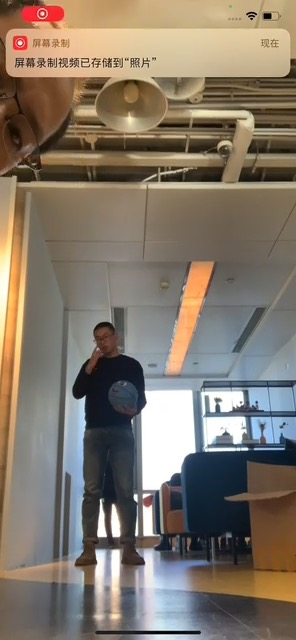ball: (108, 380, 138, 412)
